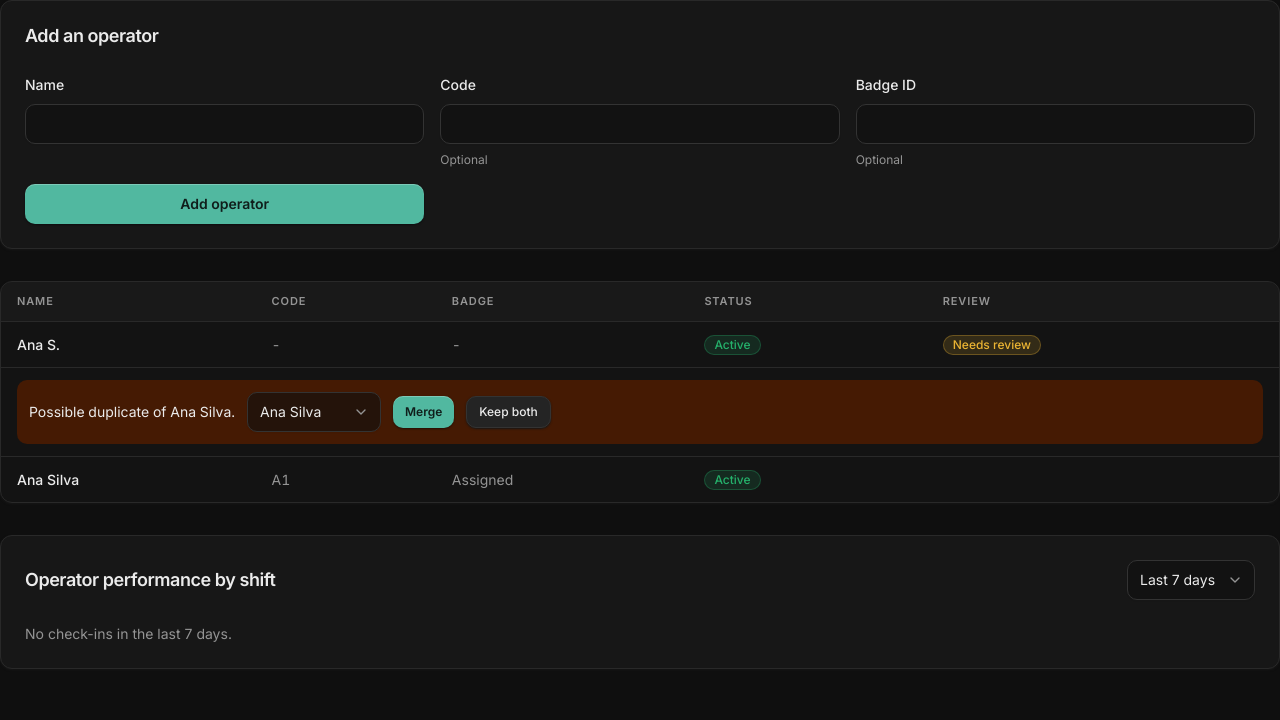
OperatorsPanel › surfaces merge and keep-both errors
Click the button "Merge". click: [424, 412]
box: [393, 396, 454, 428]
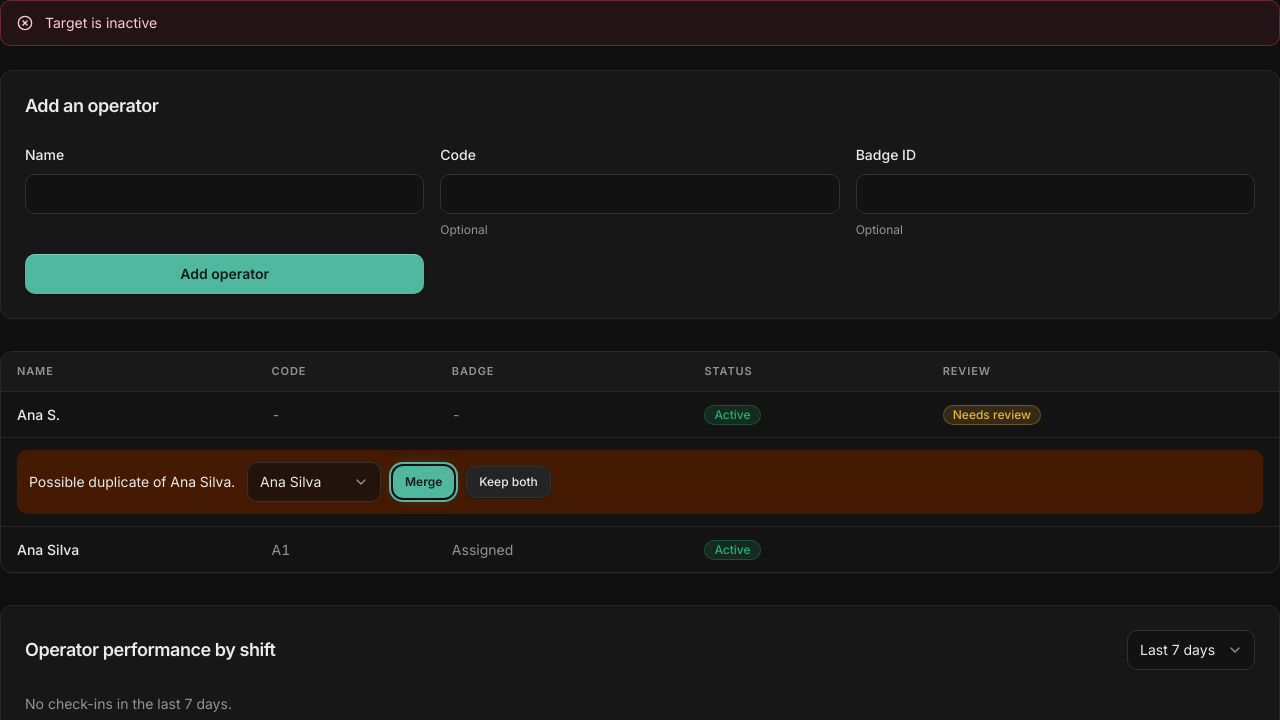
Result: the text "Target is inactive" is shown at [45, 13, 157, 33]
Click the button "Keep both". click: [509, 482]
box: [466, 466, 551, 498]
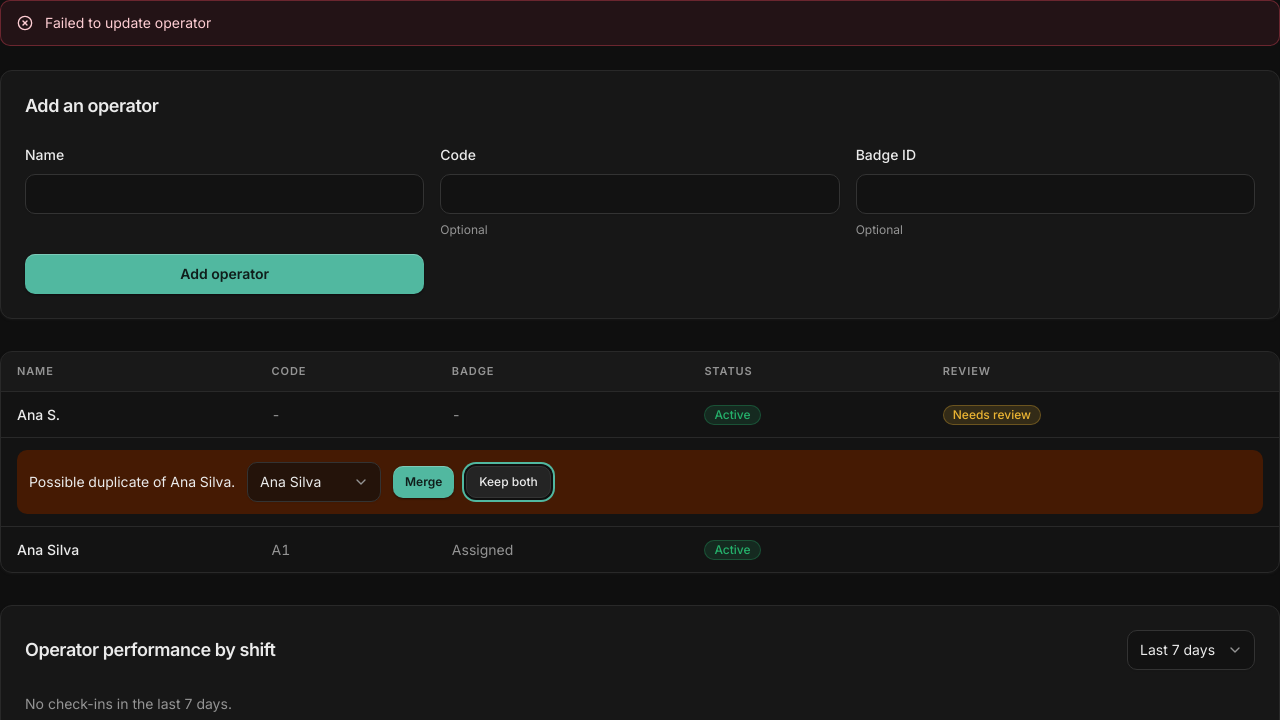
Result: the text "Failed to update operator" is shown at [45, 13, 211, 33]
